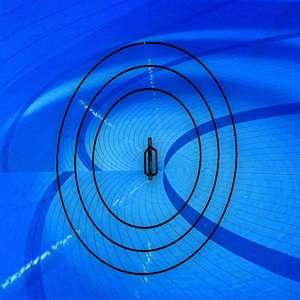circle: (54, 39, 242, 278)
submarine: (138, 136, 163, 184)
